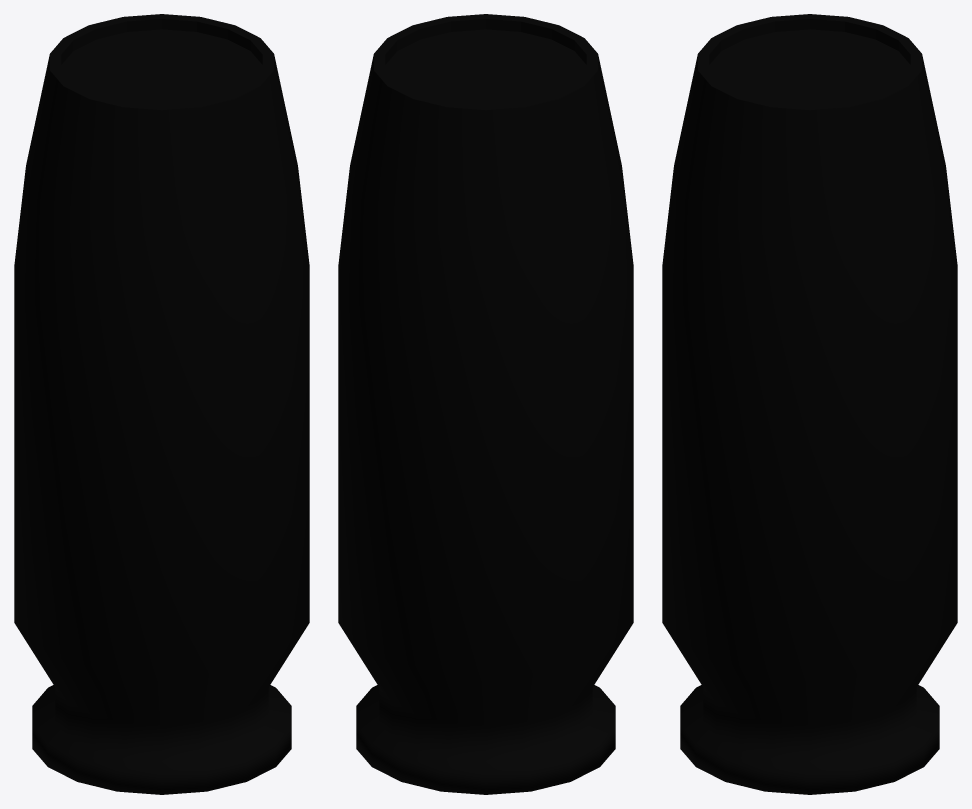
The model's file is 50 Caliber Bullet.FBX.
3 views of the same model, side by side, from view 1: azimuth 30°, elevation 25°; view 2: azimuth 150°, elevation 25°; view 3: azimuth 270°, elevation 25° (orthographic).
Parts seen in each view (by area): view 1: Cylinder01; view 2: Cylinder01; view 3: Cylinder01.
Part boxes in pixels (left/top/right/bottom): Cylinder01: left=14, top=14, right=309, bottom=794; Cylinder01: left=338, top=14, right=633, bottom=794; Cylinder01: left=662, top=14, right=957, bottom=794.
Bounding box in the file's own units: 68.65 × 171 × 67.61.
